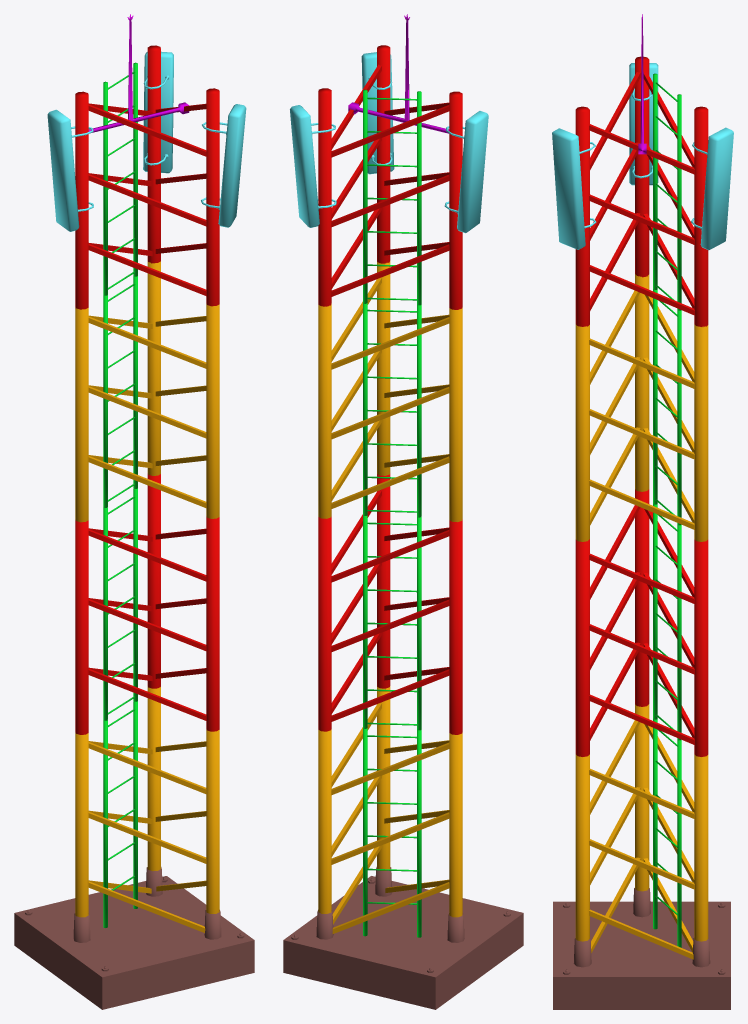
File: Radio Tower.fbx
3 renders of one model, left to right at view 1: azimuth 30°, elevation 25°; view 2: azimuth 150°, elevation 25°; view 3: azimuth 270°, elevation 25°, orthographic.
Parts seen in each view (by area): view 1: Base, Tower.001, Tower.002, Tower.005, Tower, Sectorial, Stairs.001, Stairs.002, Sectorial.001, Stairs.005, Stairs, Sectorial.002 (+1 smaller); view 2: Base, Tower.001, Tower.002, Tower.005, Tower, Sectorial, Stairs.005, Stairs.001, Sectorial.002, Stairs.002, Stairs, Sectorial.001 (+1 smaller); view 3: Base, Tower.001, Tower.002, Tower.005, Tower, Sectorial.001, Sectorial.002, Stairs.005, Stairs.001, Stairs.002, Stairs, Sectorial (+1 smaller).
Part boxes in pixels (x1,y1,x2,y2): Base: (14, 867, 254, 1009); Tower.001: (75, 473, 219, 734); Tower.002: (75, 261, 219, 522); Tower.005: (75, 45, 219, 309); Tower: (75, 686, 219, 932); Sectorial: (47, 109, 93, 231); Stairs.001: (103, 488, 137, 720); Stairs.002: (103, 276, 137, 507); Sectorial.001: (201, 104, 246, 227); Stairs.005: (103, 62, 137, 295); Stairs: (103, 701, 137, 927); Sectorial.002: (143, 51, 173, 173); Base: (283, 867, 523, 1009); Tower.001: (318, 473, 462, 734); Tower.002: (318, 261, 462, 522); Tower.005: (318, 45, 462, 309); Tower: (318, 686, 462, 933); Sectorial: (444, 111, 488, 233); Stairs.005: (363, 89, 421, 305); Stairs.001: (363, 515, 421, 730); Sectorial.002: (290, 105, 336, 227); Stairs.002: (363, 303, 421, 517); Stairs: (363, 728, 421, 937); Sectorial.001: (361, 52, 394, 174); Base: (553, 888, 730, 1009); Tower.001: (575, 489, 708, 756); Tower.002: (575, 274, 708, 541); Tower.005: (575, 56, 708, 326); Tower: (575, 704, 708, 959); Sectorial.001: (552, 128, 596, 249); Sectorial.002: (691, 127, 733, 250); Stairs.005: (653, 73, 681, 310); Stairs.001: (653, 504, 681, 740); Stairs.002: (653, 289, 681, 525); Stairs: (653, 719, 681, 947); Sectorial: (629, 63, 658, 185).
Size of the model in its own units: 1.54 by 8.89 by 1.53.
